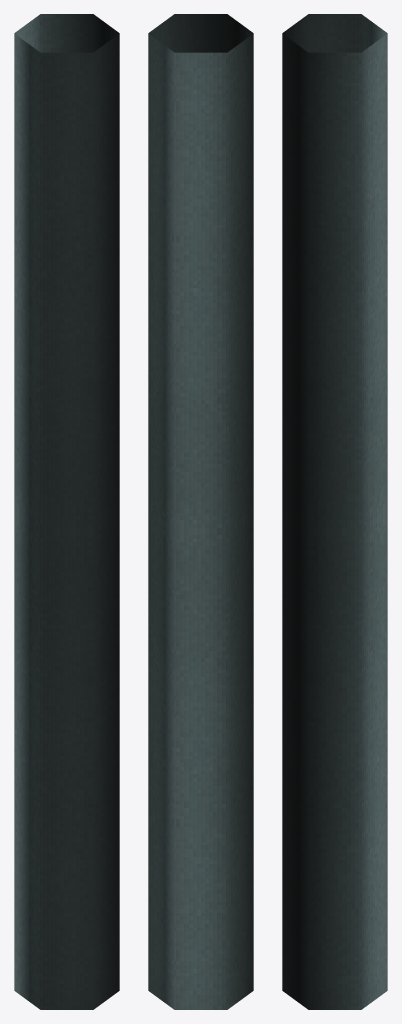
Rendered from roof_pipe_mid_4.glb.
3 views of the same model, side by side, from view 1: azimuth 90°, elevation 25°; view 2: azimuth 150°, elevation 25°; view 3: azimuth 270°, elevation 25° (orthographic).
Parts seen in each view (by area): view 1: roof_pipe_mid_4; view 2: roof_pipe_mid_4; view 3: roof_pipe_mid_4.
Boxes of the visible parts, <box> form: roof_pipe_mid_4: <box>14,14,119,1009</box>; roof_pipe_mid_4: <box>148,14,253,1009</box>; roof_pipe_mid_4: <box>282,14,387,1009</box>.
Size of the model in its own units: 0.3464 by 4 by 0.4.
1 material, 1 textured.
